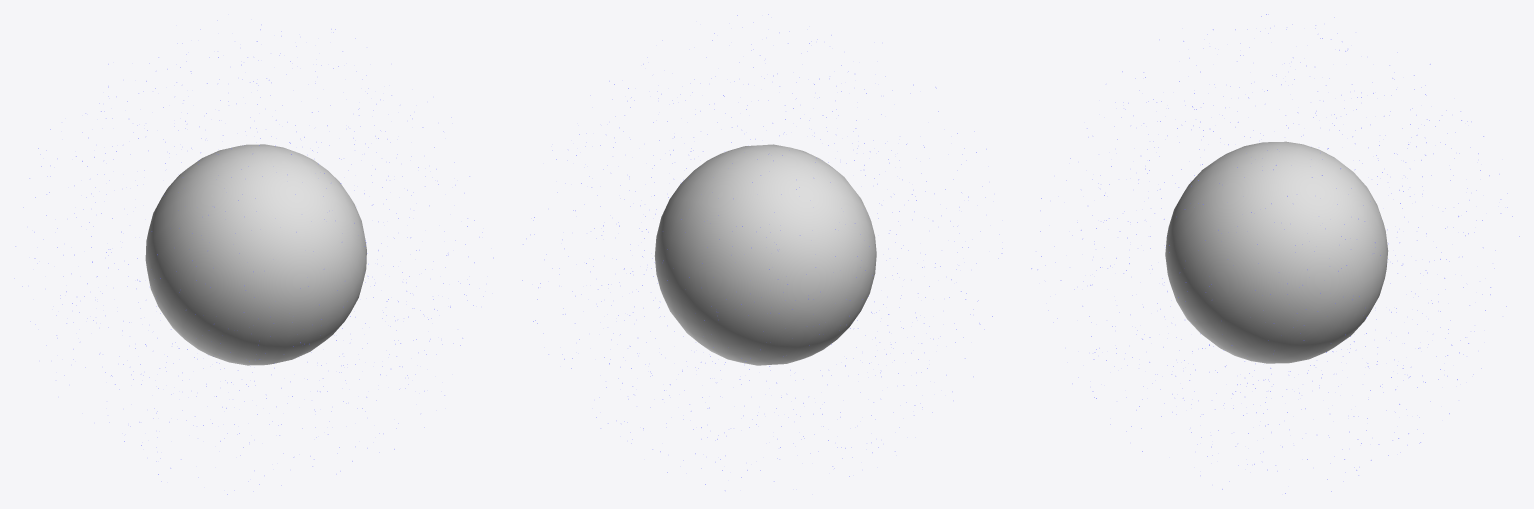
Rendered from contarinerforstarcontainer.fbx.
3 views of the same model, side by side, from view 1: azimuth 30°, elevation 25°; view 2: azimuth 150°, elevation 25°; view 3: azimuth 270°, elevation 25° (orthographic).
Visible parts, largest first — view 1: Culler; view 2: Culler; view 3: Culler.
Part boxes in pixels (left/top/right/bottom): Culler: left=145, top=144, right=366, bottom=365; Culler: left=654, top=144, right=876, bottom=365; Culler: left=1165, top=141, right=1388, bottom=363.
Size of the model in its own units: 77501 by 77632 by 78708.
